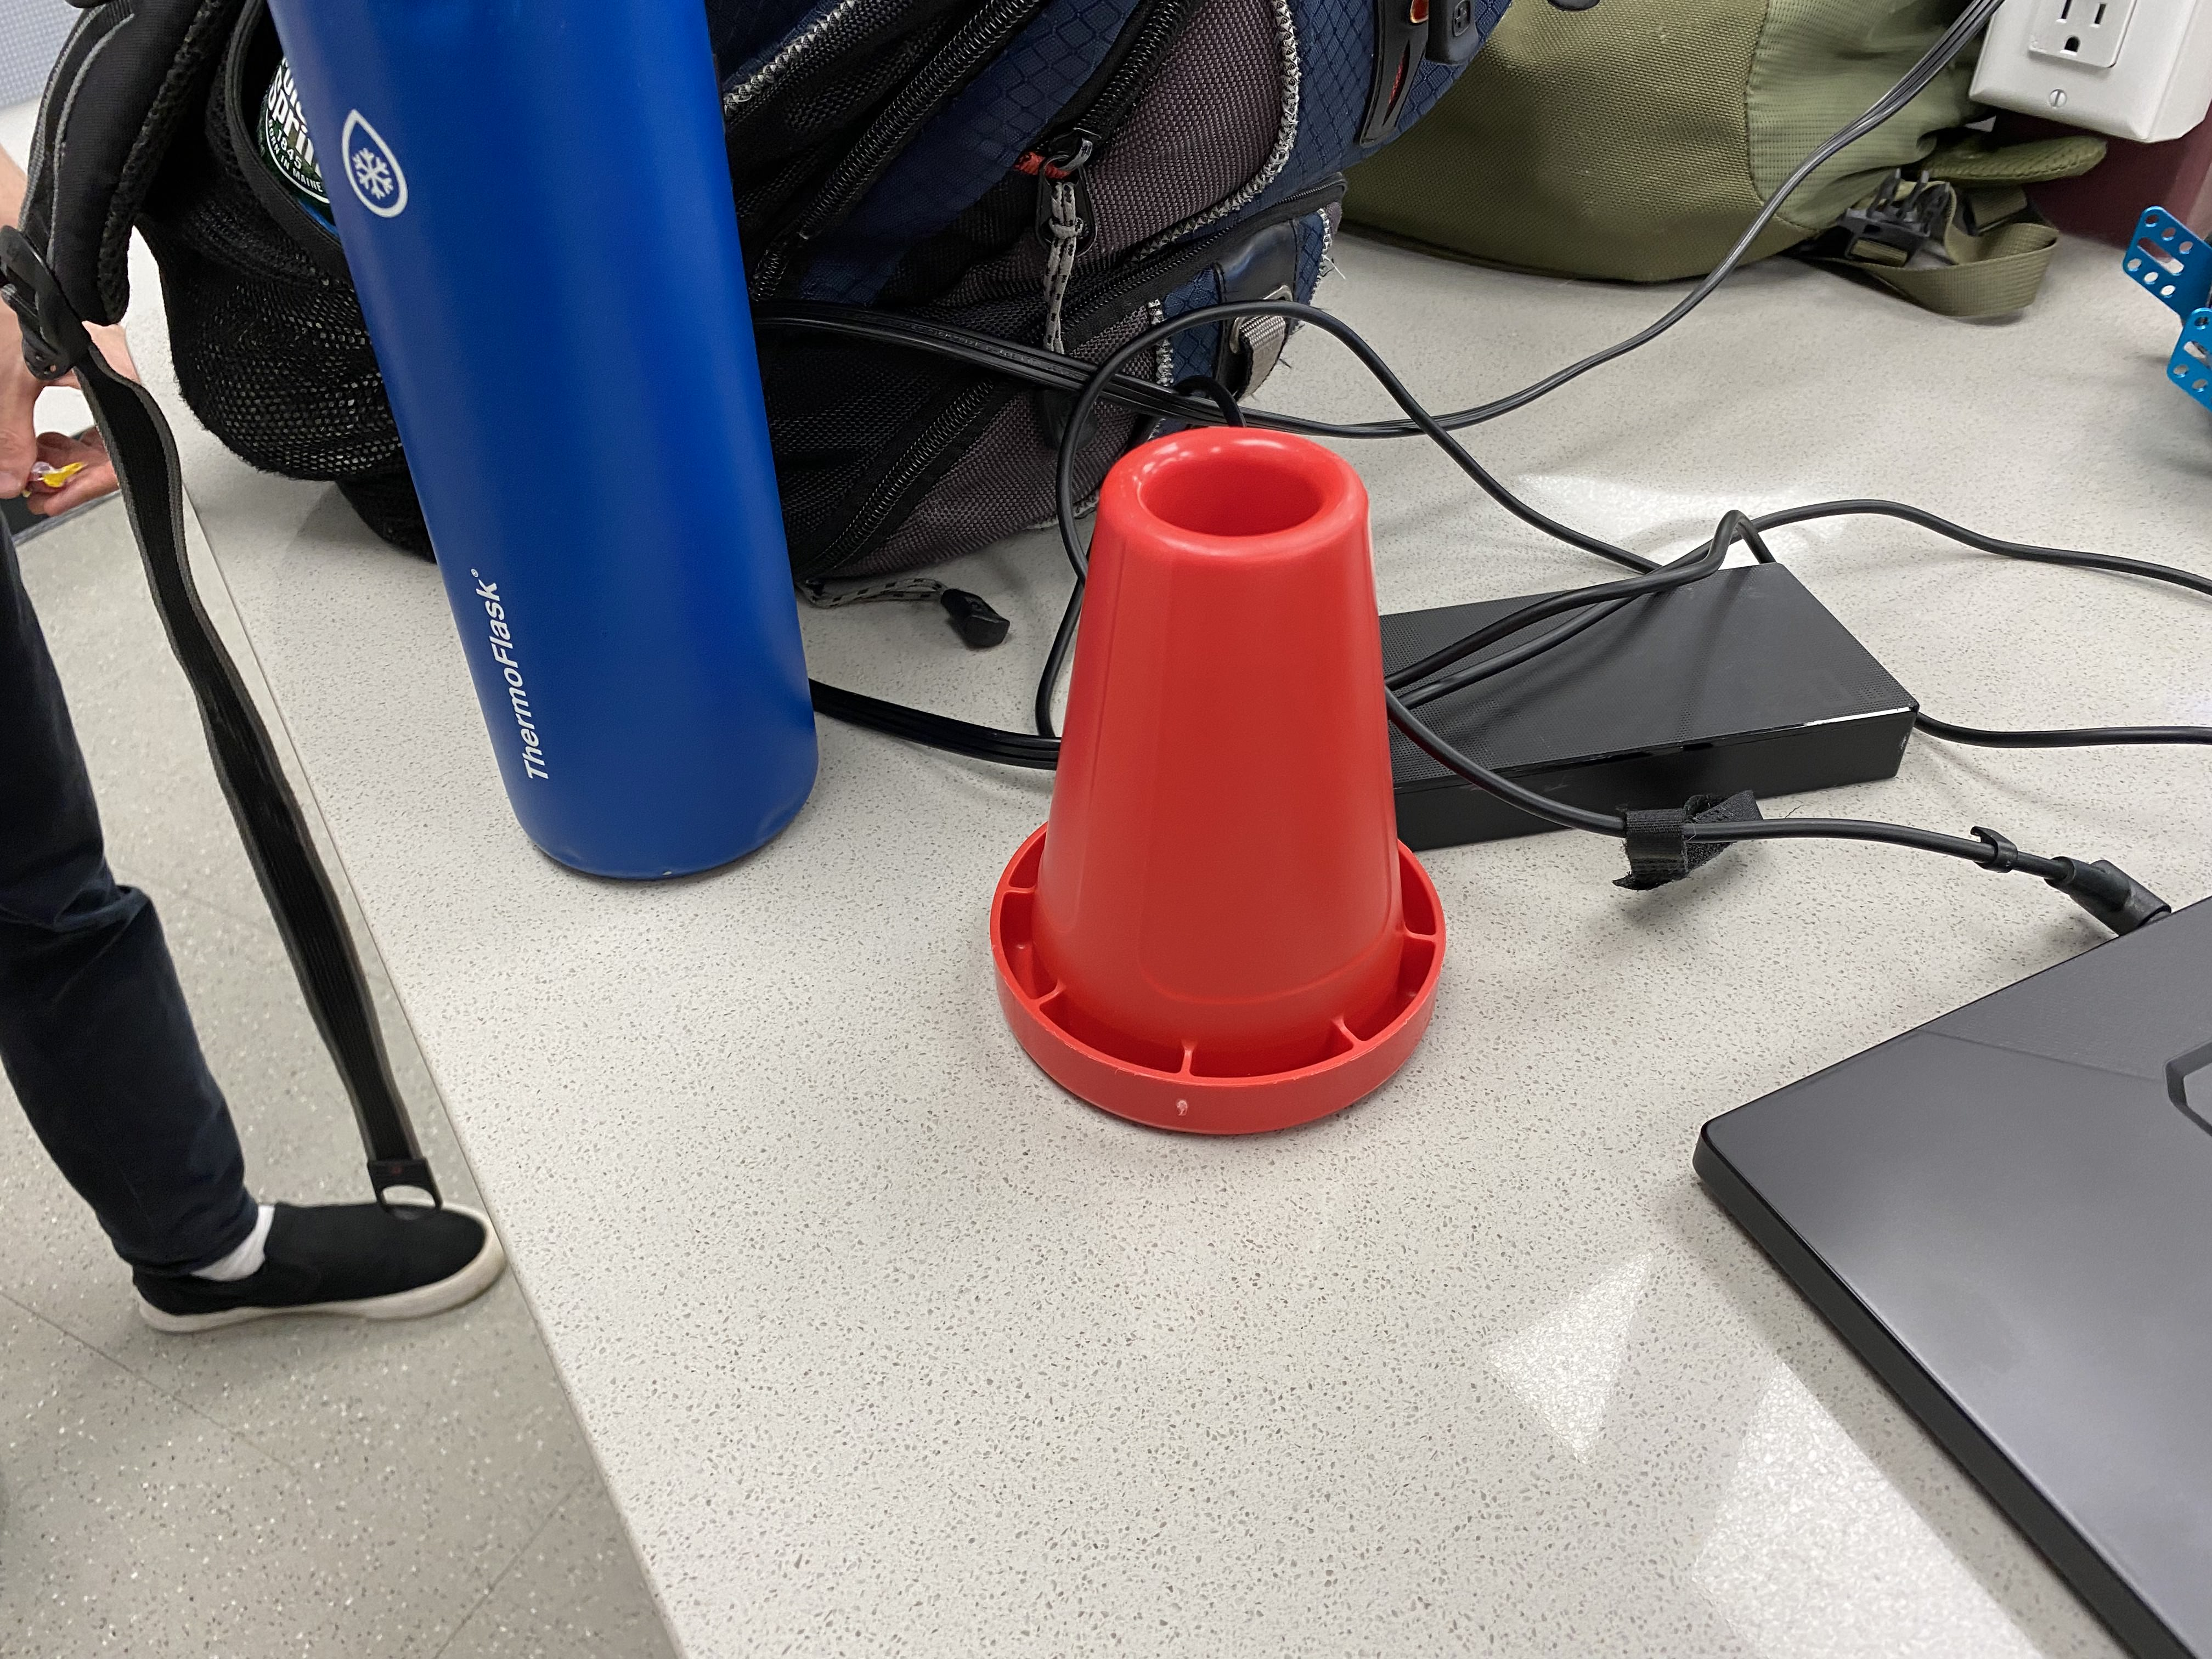redCone: (970, 420, 1456, 1152)
